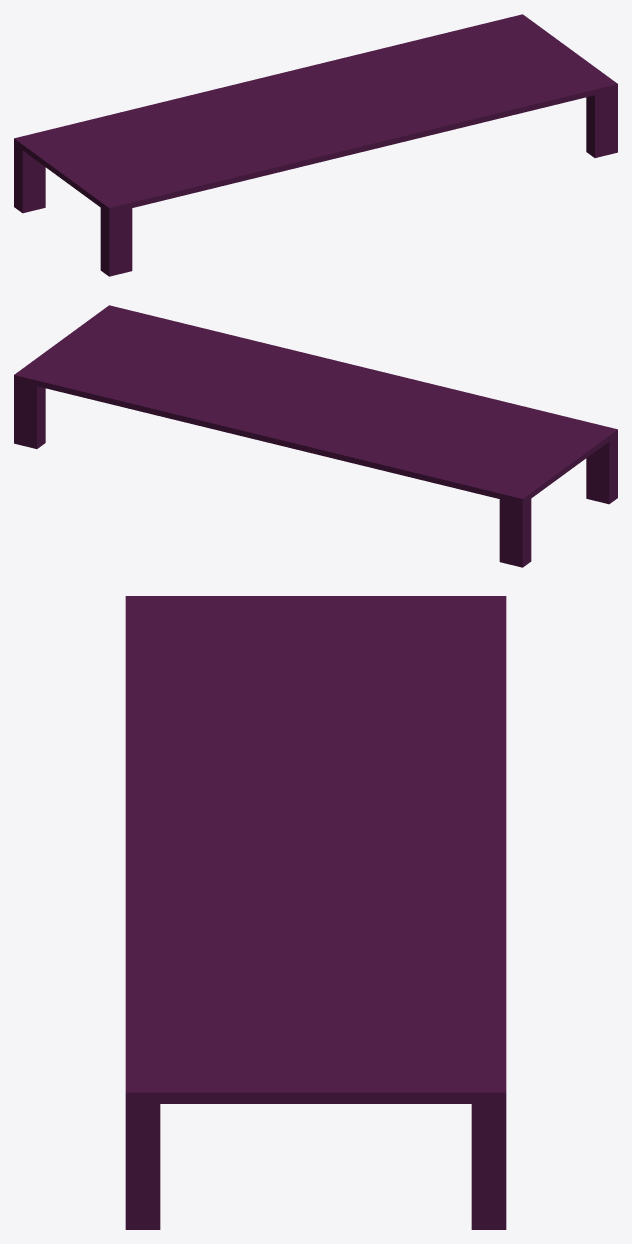
File: Table.fbx
The picture shows the model from 3 angles, top to bottom: view 1: azimuth 30°, elevation 25°; view 2: azimuth 150°, elevation 25°; view 3: azimuth 270°, elevation 25°; orthographic projection. The views are drawn at different scales.
Parts seen in each view (by area): view 1: Cube.001; view 2: Cube.001; view 3: Cube.001.
Boxes of the visible parts, box(x1,y1,x2,y2) form: Cube.001: box(14, 14, 617, 276); Cube.001: box(14, 305, 617, 567); Cube.001: box(125, 596, 506, 1229).
Size of the model in its own units: 1585 by 204 by 514.
